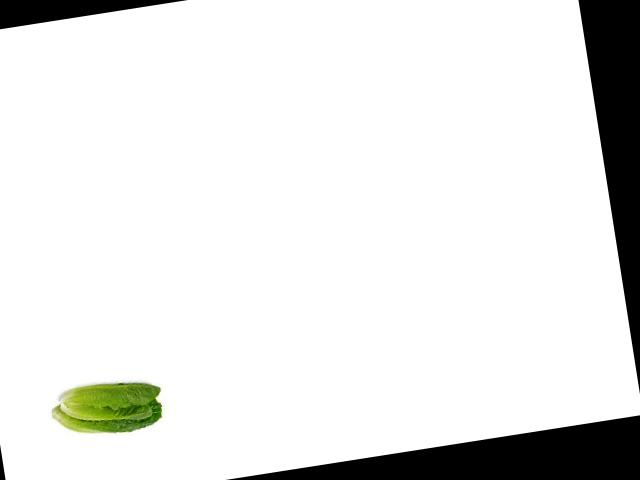lettuce: (48, 367, 167, 442)
